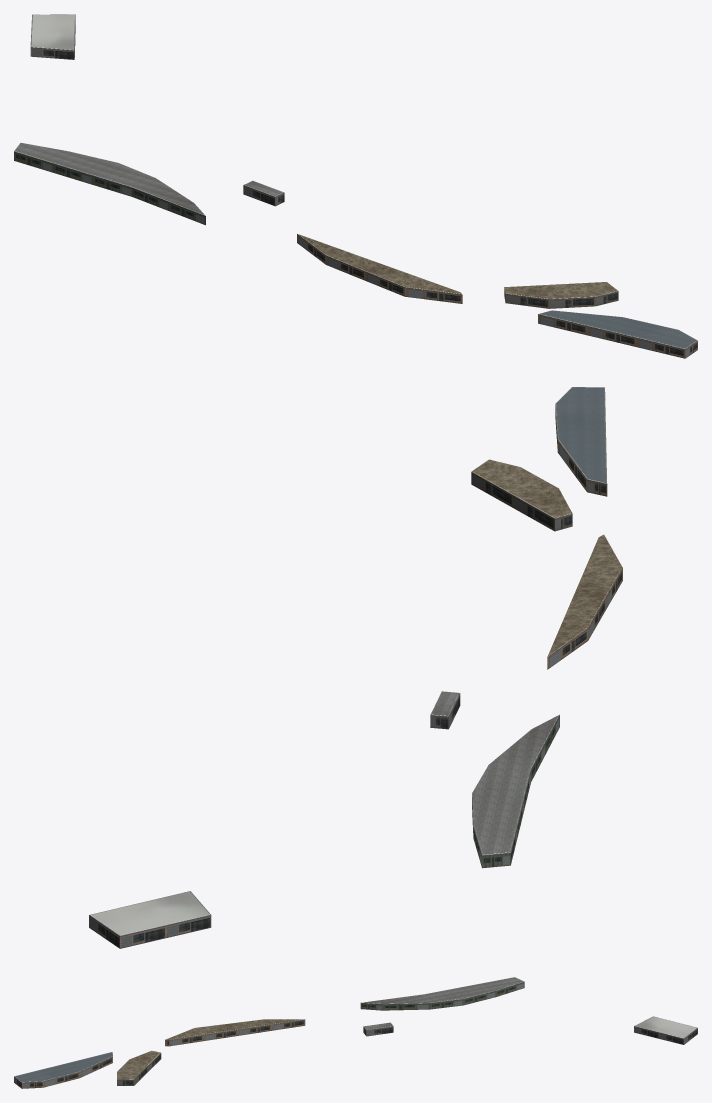
3 renders of one model, top to bottom at view 1: azimuth 30°, elevation 25°; view 2: azimuth 150°, elevation 25°; view 3: azimuth 270°, elevation 25°, orthographic. The views are drawn at different scales.
Parts seen in each view (by area): view 1: SlateRoof, BrickArcade, ConcreteRoof, SlateRoof surveyed, Workshop, ZincRoof surveyed, RibbedFront, PanelArcade; view 2: SlateRoof, ConcreteRoof, SlateRoof surveyed, ZincRoof surveyed, PanelArcade, BrickArcade, RibbedFront, Workshop; view 3: SlateRoof, BrickArcade, ConcreteRoof, Workshop, SlateRoof surveyed, ZincRoof surveyed, PanelArcade, RibbedFront.
Part boxes in pixels (left/top/right/bottom): SlateRoof: left=14, top=143, right=697, bottom=349; BrickArcade: left=297, top=234, right=697, bottom=358; ConcreteRoof: left=298, top=234, right=618, bottom=299; SlateRoof surveyed: left=540, top=310, right=696, bottom=348; Workshop: left=14, top=151, right=205, bottom=225; ZincRoof surveyed: left=31, top=14, right=74, bottom=49; RibbedFront: left=504, top=287, right=618, bottom=308; PanelArcade: left=30, top=25, right=284, bottom=206; SlateRoof: left=430, top=387, right=607, bottom=855; ConcreteRoof: left=471, top=459, right=622, bottom=656; SlateRoof surveyed: left=556, top=387, right=605, bottom=482; ZincRoof surveyed: left=91, top=891, right=209, bottom=935; PanelArcade: left=89, top=693, right=460, bottom=948; BrickArcade: left=547, top=407, right=622, bottom=669; RibbedFront: left=471, top=472, right=572, bottom=531; Workshop: left=472, top=715, right=559, bottom=868; SlateRoof: left=14, top=977, right=524, bottom=1082; BrickArcade: left=14, top=1019, right=305, bottom=1088; ConcreteRoof: left=117, top=1019, right=303, bottom=1079; Workshop: left=360, top=982, right=524, bottom=1010; SlateRoof surveyed: left=15, top=1052, right=112, bottom=1081; ZincRoof surveyed: left=635, top=1016, right=696, bottom=1038; PanelArcade: left=363, top=1026, right=697, bottom=1044; RibbedFront: left=117, top=1053, right=161, bottom=1085.
Bounding box in the file's own units: 107 × 3.12 × 294.
Materials: 9 (9 with a texture image).
